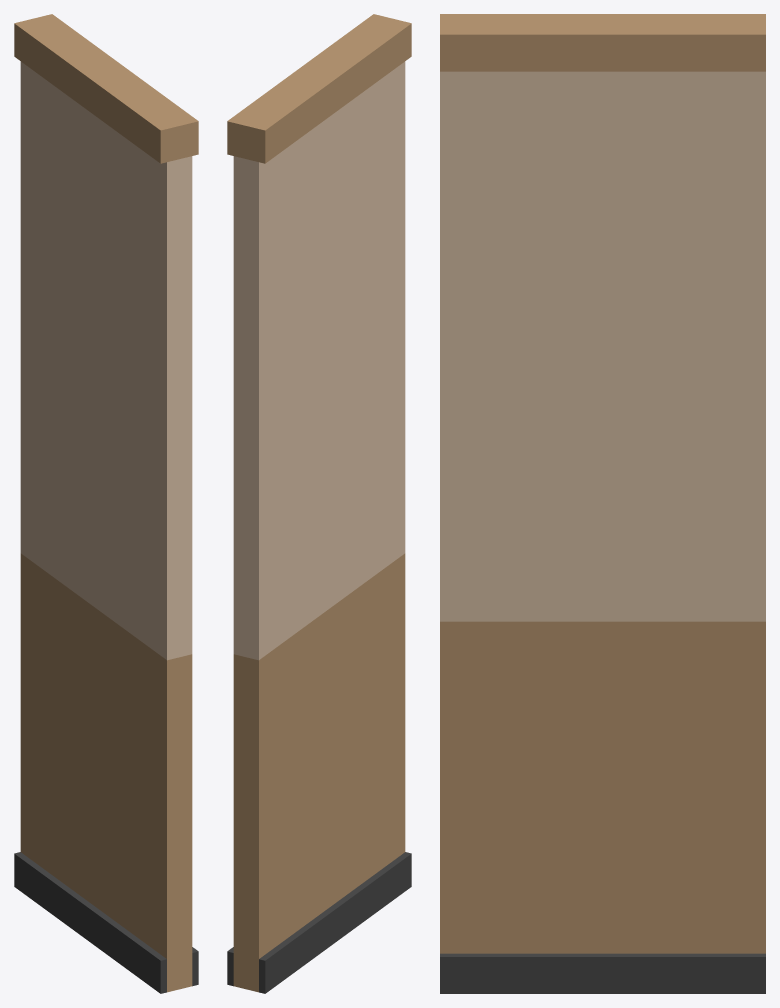
The model's file is wall_02_S.dae.
3 views of the same model, side by side, from view 1: azimuth 30°, elevation 25°; view 2: azimuth 150°, elevation 25°; view 3: azimuth 270°, elevation 25° (orthographic). The views are drawn at different scales.
Visible parts, largest first — view 1: Untitled; view 2: Untitled; view 3: Untitled.
Boxes of the visible parts, bbox=[...] form: Untitled: bbox=[14, 14, 198, 993]; Untitled: bbox=[227, 14, 411, 993]; Untitled: bbox=[440, 14, 765, 993].
Bounding box in the file's own units: 0.18 × 1.2 × 3.9.
Materials: 1 (1 with a texture image).
